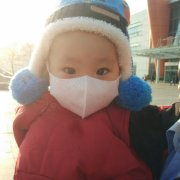face_mask: (49, 31, 117, 118)
